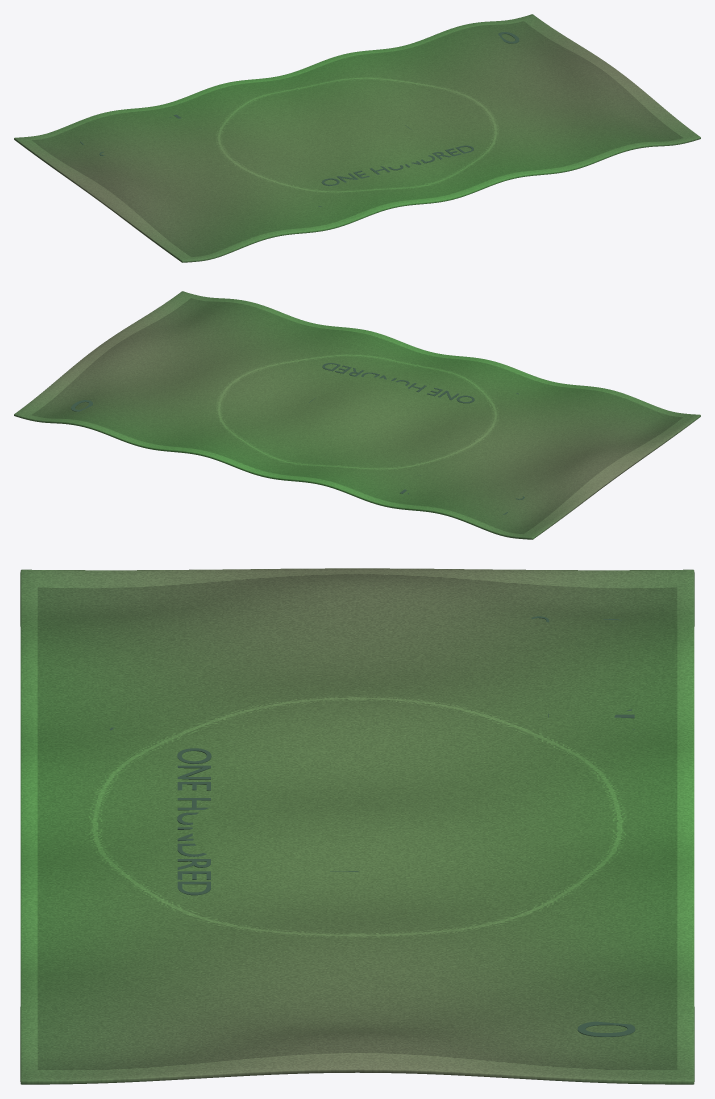
Rendered from ciao-credit-note.glb.
The picture shows the model from 3 angles, top to bottom: view 1: azimuth 30°, elevation 25°; view 2: azimuth 150°, elevation 25°; view 3: azimuth 270°, elevation 25°; orthographic projection. The views are drawn at different scales.
Parts seen in each view (by area): view 1: CiaoCredit | curved, solid banknote, Engraving | ONE HUNDRED; view 2: CiaoCredit | curved, solid banknote, Engraving | ONE HUNDRED; view 3: CiaoCredit | curved, solid banknote, Engraving | ONE HUNDRED.
Part boxes in pixels (x1,y1,x2,y2): CiaoCredit | curved, solid banknote: [14, 14, 700, 262]; Engraving | ONE HUNDRED: [321, 145, 473, 185]; CiaoCredit | curved, solid banknote: [14, 291, 700, 539]; Engraving | ONE HUNDRED: [322, 363, 474, 403]; CiaoCredit | curved, solid banknote: [20, 568, 694, 1084]; Engraving | ONE HUNDRED: [177, 748, 211, 895].
Size of the model in its own units: 3.2 by 0.0814 by 1.8.
Materials: 2 (1 with a texture image).
